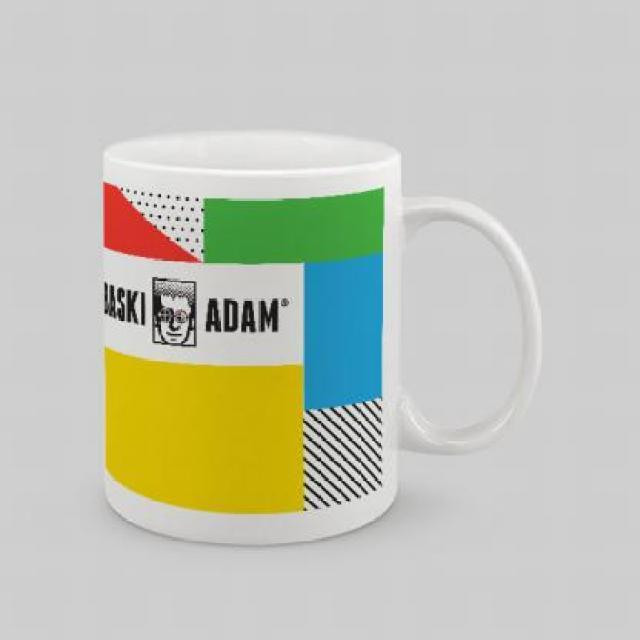taza: (100, 126, 547, 550)
